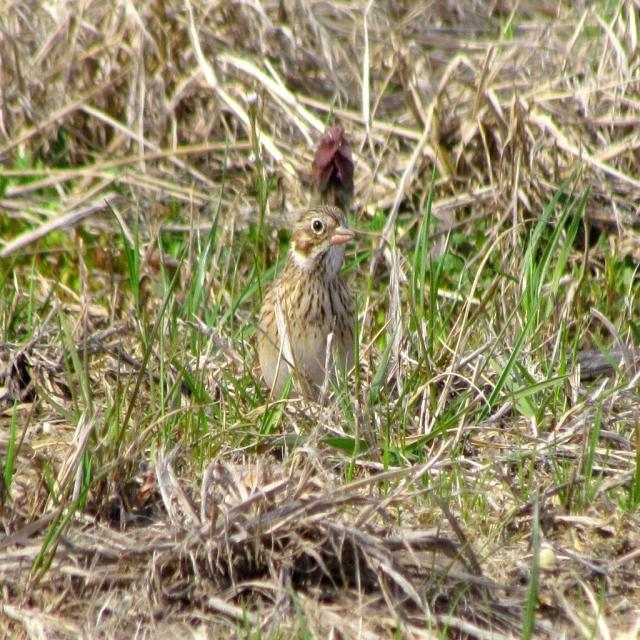bird: (251, 201, 374, 410)
